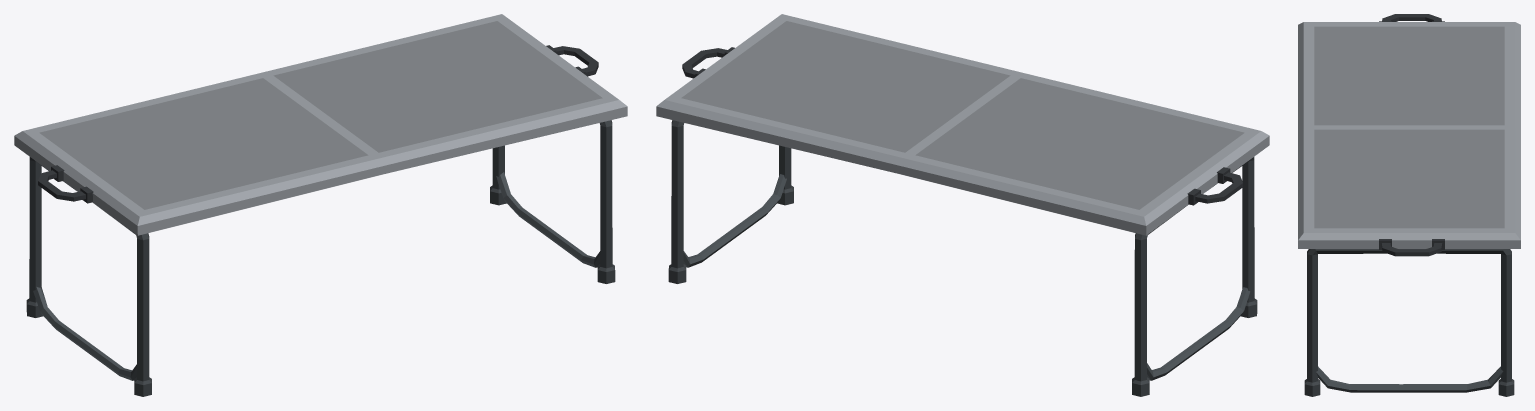
The model's file is SM_Prop_Table_01.fbx.
3 renders of one model, left to right at view 1: azimuth 30°, elevation 25°; view 2: azimuth 150°, elevation 25°; view 3: azimuth 270°, elevation 25°, orthographic. The views are drawn at different scales.
Visible parts, largest first — view 1: SM_Prop_Table_01; view 2: SM_Prop_Table_01; view 3: SM_Prop_Table_01.
Part boxes in pixels (x1,y1,x2,y2): SM_Prop_Table_01: (14,14,627,396); SM_Prop_Table_01: (656,14,1269,396); SM_Prop_Table_01: (1298,14,1520,396).
Bounding box in the file's own units: 246 × 78.84 × 97.13.
